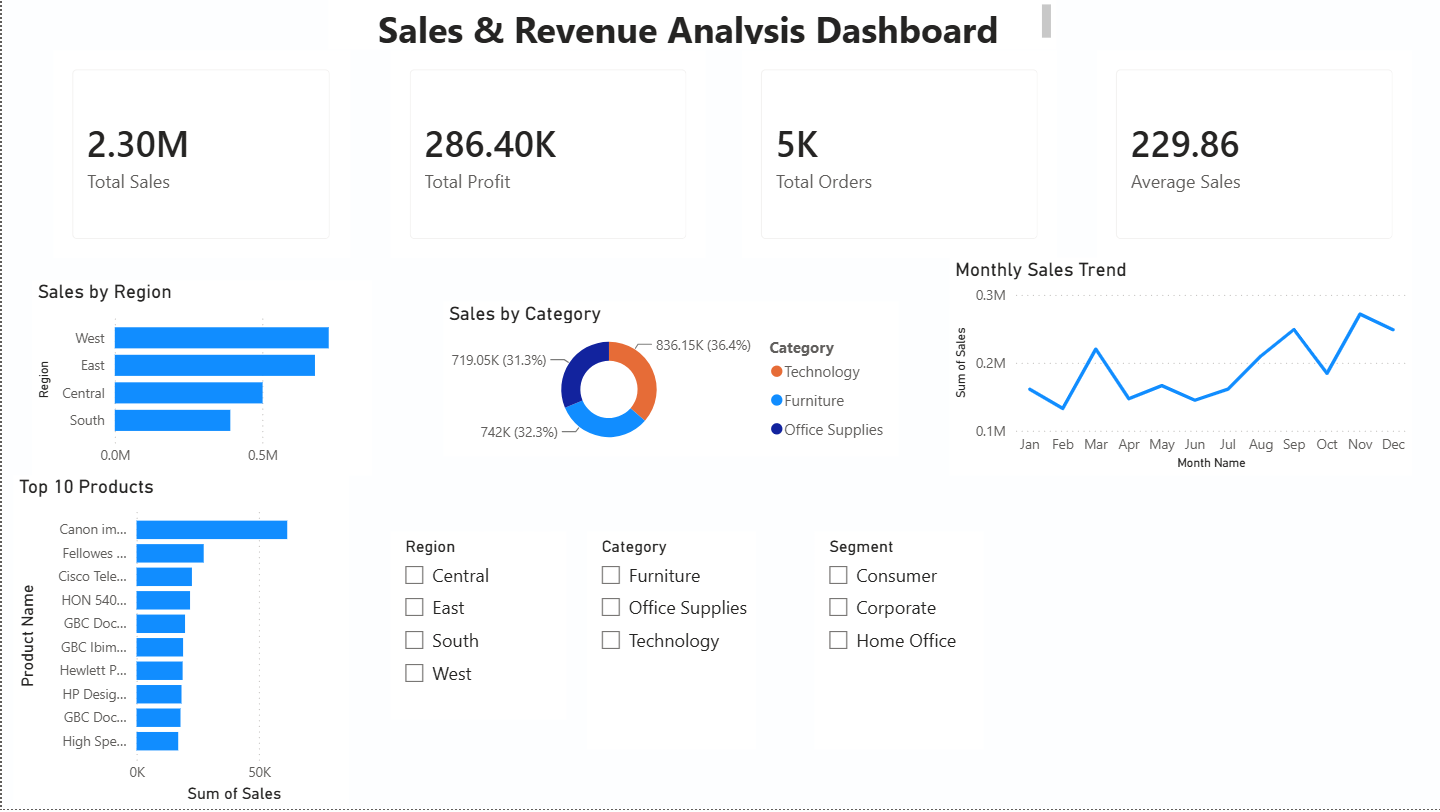

What the dashboard file says about the page in this screenshot:
{"tool":"powerbi","page":{"name":"Page 1","canvas":[1280,720],"ordinal":0},"visuals":[{"type":"cardVisual","fields":{"Data":["Superstore.Total Orders"]},"box":[657.5,45,280,185],"z":0},{"type":"cardVisual","fields":{"Data":["Superstore.Total Profit"]},"box":[345,45,280,185],"z":1000},{"type":"cardVisual","fields":{"Data":["Superstore.Total Sales"]},"box":[45,45,263.8,185],"z":2000},{"type":"cardVisual","fields":{"Data":["Superstore.Average Sales"]},"box":[973.8,45,280,185],"z":3000},{"type":"barChart","title":"Sales by Region","fields":{"Category":["Superstore.Region"],"Y":["Sum(Superstore.Sales)"]},"box":[26.2,250,302.5,173.8],"z":4000},{"type":"donutChart","title":"Sales by Category","fields":{"Category":["Superstore.Category"],"Y":["Sum(Superstore.Sales)"]},"box":[392.5,268.8,405,137.5],"z":5000},{"type":"lineChart","title":"Monthly Sales Trend","fields":{"Category":["Superstore.Month Name"],"Y":["Sum(Superstore.Sales)"]},"box":[842.5,230,411.2,193.8],"z":6000},{"type":"barChart","title":"Top 10 Products","fields":{"Category":["Superstore.Product Name"],"Y":["Sum(Superstore.Sales)"]},"box":[10,423.8,298.8,296.2],"z":7000},{"type":"slicer","fields":{"Values":["Superstore.Region"]},"box":[345,473.8,156.2,167.5],"z":8000},{"type":"slicer","fields":{"Values":["Superstore.Category"]},"box":[520,473.8,150,193.8],"z":9000},{"type":"slicer","fields":{"Values":["Superstore.Segment"]},"box":[722.5,473.8,150,193.8],"z":10000},{"type":"textbox","box":[290,0,647.5,45],"z":11000}]}

Visuals, with their boxes in screenshot pixels (x1, y1, x2, y2), scaled from the page's 1280x720 canvas onto the 1440x812 screenshot:
cardVisual - Superstore.Total Orders: crop(740, 51, 1055, 259)
cardVisual - Superstore.Total Profit: crop(388, 51, 703, 259)
cardVisual - Superstore.Total Sales: crop(51, 51, 347, 259)
cardVisual - Superstore.Average Sales: crop(1096, 51, 1411, 259)
"Sales by Region" barChart: crop(29, 282, 370, 478)
"Sales by Category" donutChart: crop(442, 303, 897, 458)
"Monthly Sales Trend" lineChart: crop(948, 259, 1410, 478)
"Top 10 Products" barChart: crop(11, 478, 347, 811)
slicer - Superstore.Region: crop(388, 534, 564, 723)
slicer - Superstore.Category: crop(585, 534, 754, 753)
slicer - Superstore.Segment: crop(813, 534, 982, 753)
textbox: crop(326, 0, 1055, 51)
